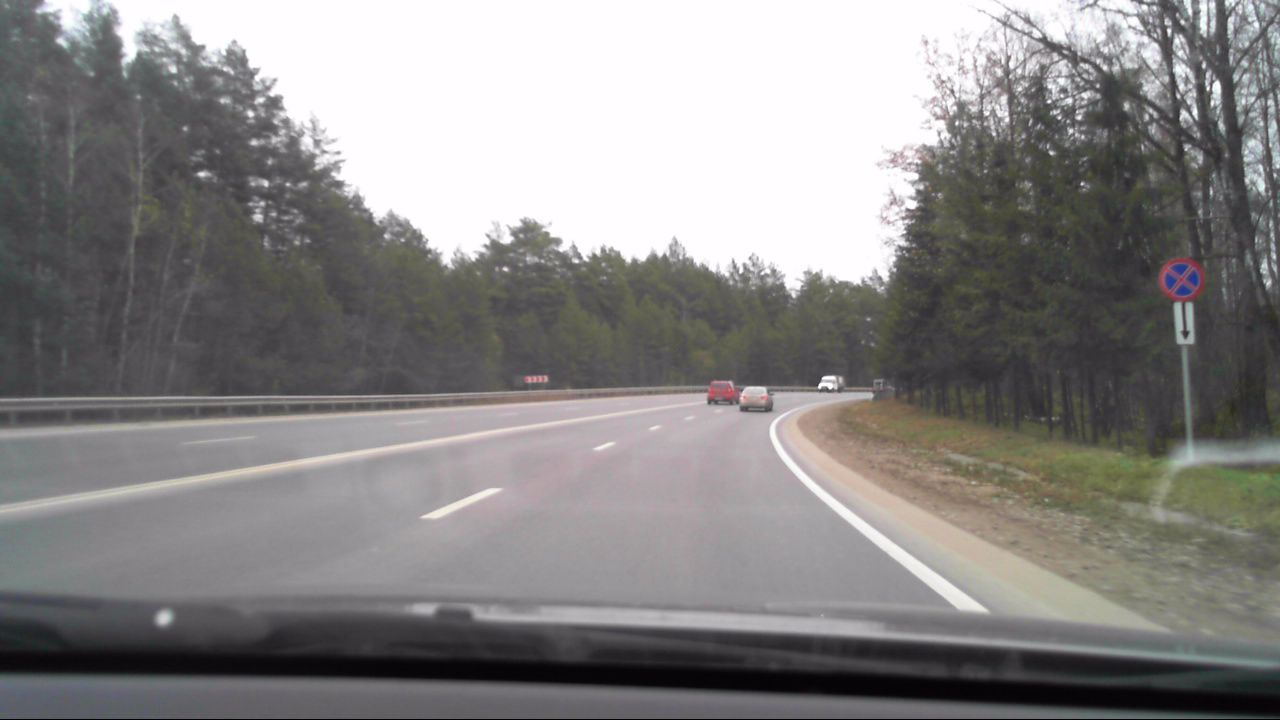No Parking: (1160, 260, 1202, 300)
